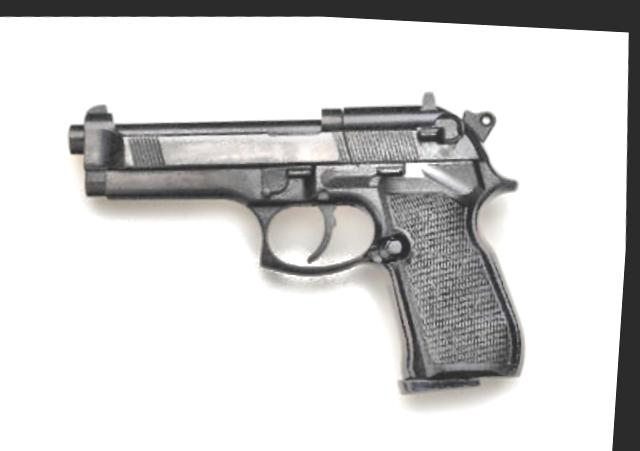pistol: (52, 66, 540, 412)
